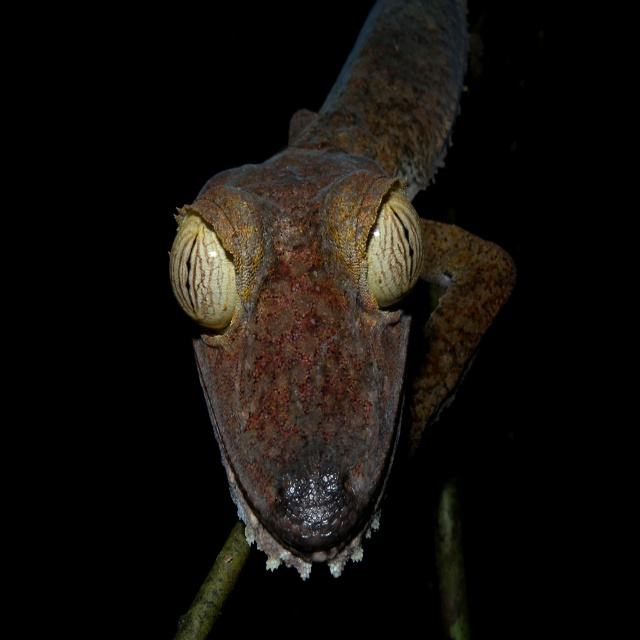Lizard: (170, 0, 469, 574)
